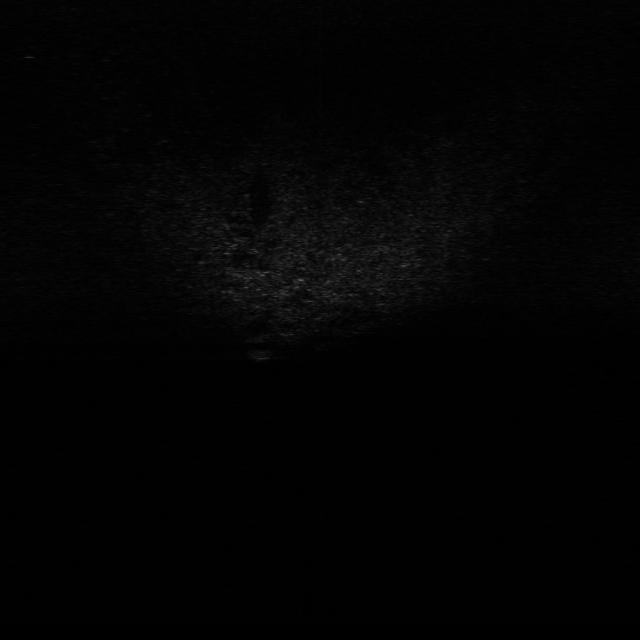cube: (242, 343, 278, 363)
